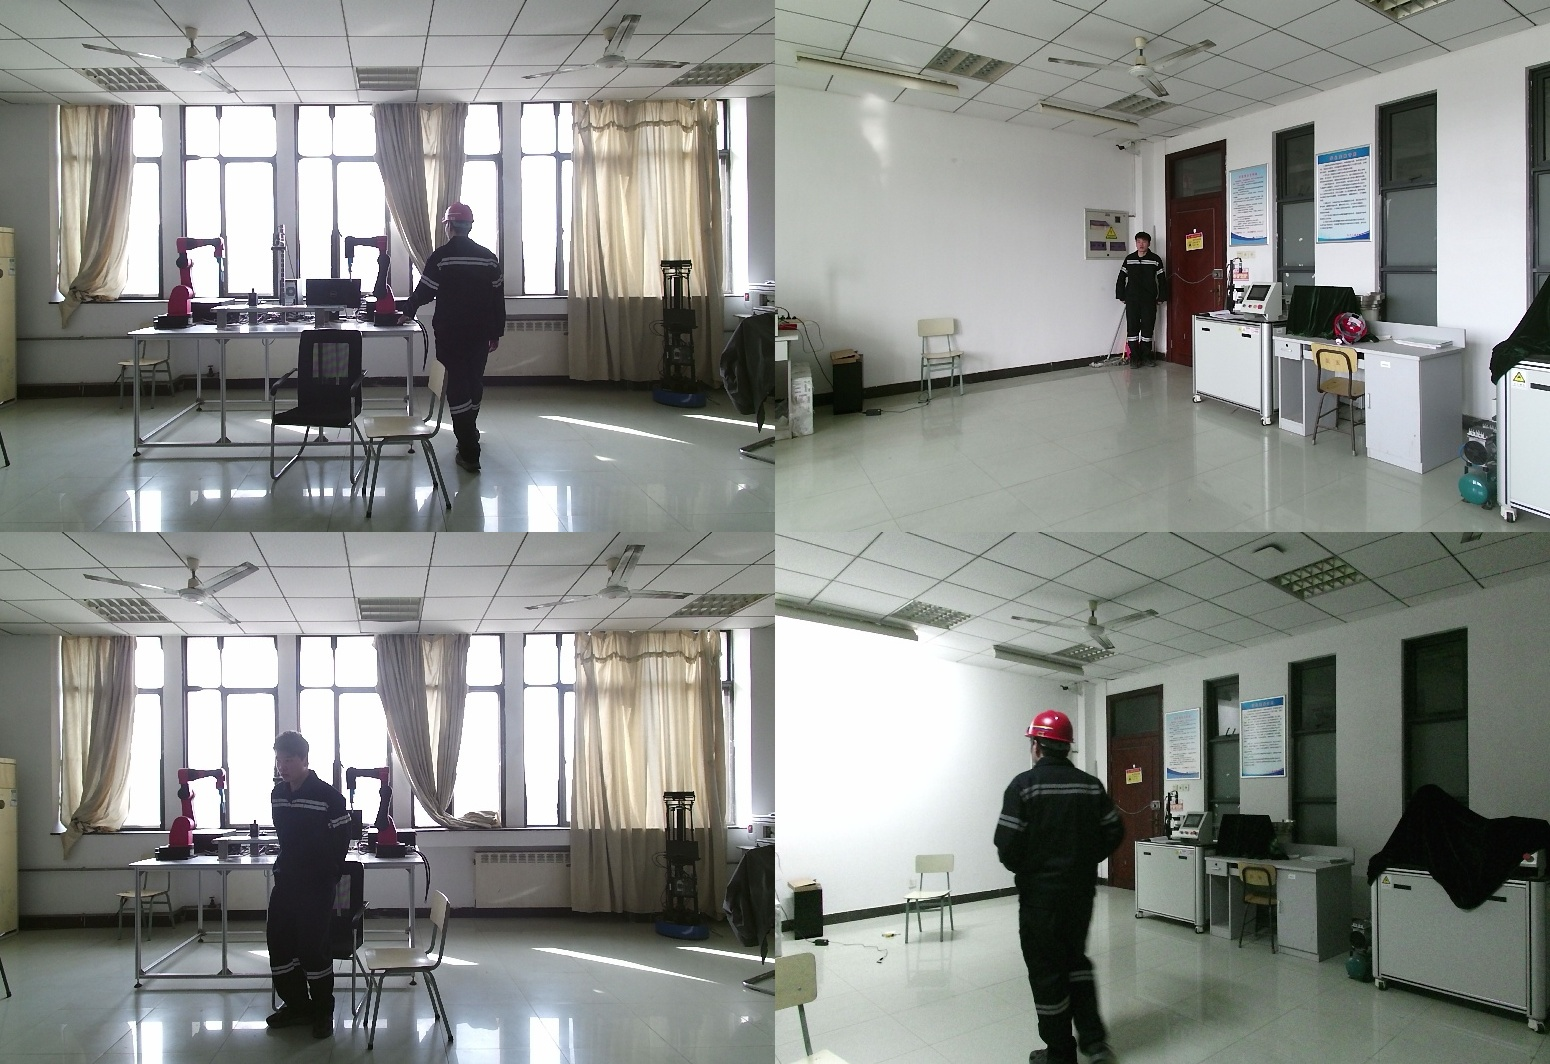person: (995, 709, 1140, 1064), (264, 731, 364, 1033), (408, 203, 516, 478), (1118, 233, 1171, 370)
